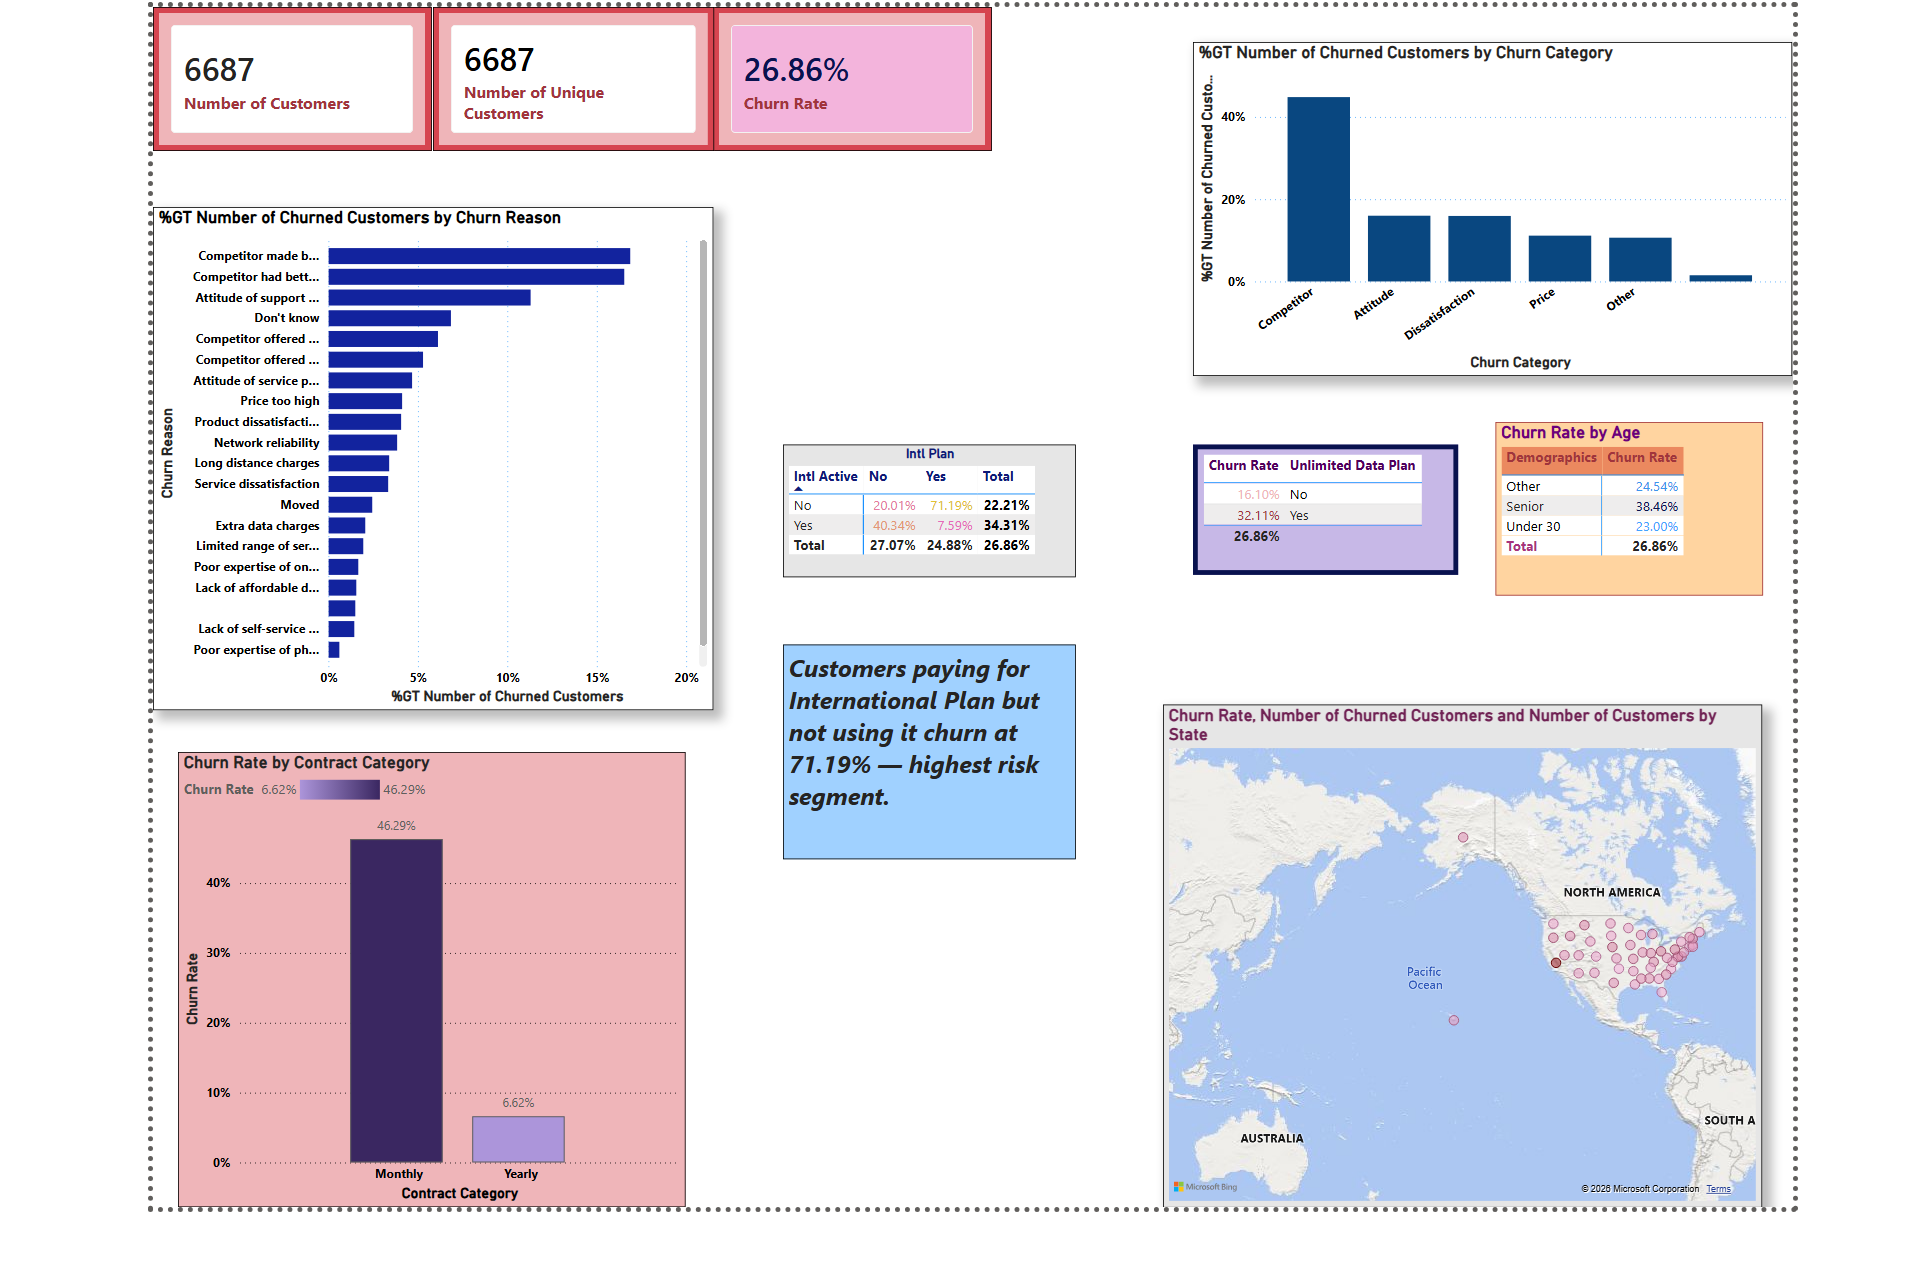

What the dashboard file says about the page in this screenshot:
{"tool":"powerbi","page":{"name":"Overview","canvas":[1280,720],"ordinal":4},"visuals":[{"type":"cardVisual","fields":{"Data":["_Measure.Number of Customers"]},"box":[0,0,249.7,127.6],"z":6001},{"type":"cardVisual","fields":{"Data":["_Measure.Churn Rate"]},"box":[530.9,0,279.9,127.6],"z":6002},{"type":"columnChart","fields":{"Category":["Churn_fact.Churn Category"],"Y":["_Measure.Number of Churned Customers"]},"box":[857.5,0,407.5,333.4],"z":6003},{"type":"barChart","fields":{"Category":["Churn_fact.Churn Reason"],"Y":["Divide(_Measure.Number of Churned Customers, ScopedEval(_Measure.Number of Churned Customers, []))"]},"box":[0,127.6,414.3,340.2],"z":6004},{"type":"clusteredColumnChart","fields":{"Y":["_Measure.Churn Rate"],"Category":["Churn_fact.Contract Category"]},"box":[0,478.8,367.7,241.5],"z":6005},{"type":"map","fields":{"Category":["Churn_fact.State"]},"box":[930.2,343,334.8,360.8],"z":6006},{"type":"pivotTable","title":"Churn Rate by Age","fields":{"Values":["_Measure.Churn Rate"],"Rows":["Churn_fact.Demographics"]},"box":[367.7,478.8,198.9,156.4],"z":6007},{"type":"tableEx","fields":{"Values":["_Measure.Churn Rate","Churn_fact.Unlimited Data Plan"]},"box":[576.2,467.8,267.5,131.7],"z":6008},{"type":"pivotTable","title":"Intl Plan","fields":{"Rows":["Churn_fact.Intl Active"],"Columns":["Churn_fact.Intl Plan"],"Values":["_Measure.Churn Rate"]},"box":[576.2,138.6,268.9,133.1],"z":6010},{"type":"textbox","box":[576.2,271.6,268.9,183.8],"z":6011},{"type":"cardVisual","fields":{"Data":["_Measure.Number of mUnique Customers"]},"box":[249.7,0,281.3,127.6],"z":6012},{"type":"textbox","box":[415.7,205.8,160.5,63.1],"z":6013}]}

Visuals, with their boxes on the page's 1280x720 design canvas (x1, y1, x2, y2). These are canvas units, not pixel positions in the 1907x1273 screenshot, which may show the page scaled, cropped or inside an application window:
cardVisual - _Measure.Number of Customers: bbox(0, 0, 250, 128)
cardVisual - _Measure.Churn Rate: bbox(531, 0, 811, 128)
columnChart - Churn_fact.Churn Category x _Measure.Number of Churned Customers: bbox(858, 0, 1265, 333)
barChart - Churn_fact.Churn Reason x Divide(_Measure.Number of Churned Customers, ScopedEval(_Measure.Number of Churned Customers, [])): bbox(0, 128, 414, 468)
clusteredColumnChart - _Measure.Churn Rate x Churn_fact.Contract Category: bbox(0, 479, 368, 720)
map - Churn_fact.State: bbox(930, 343, 1265, 704)
"Churn Rate by Age" pivotTable: bbox(368, 479, 567, 635)
tableEx - _Measure.Churn Rate x Churn_fact.Unlimited Data Plan: bbox(576, 468, 844, 600)
"Intl Plan" pivotTable: bbox(576, 139, 845, 272)
textbox: bbox(576, 272, 845, 455)
cardVisual - _Measure.Number of mUnique Customers: bbox(250, 0, 531, 128)
textbox: bbox(416, 206, 576, 269)
